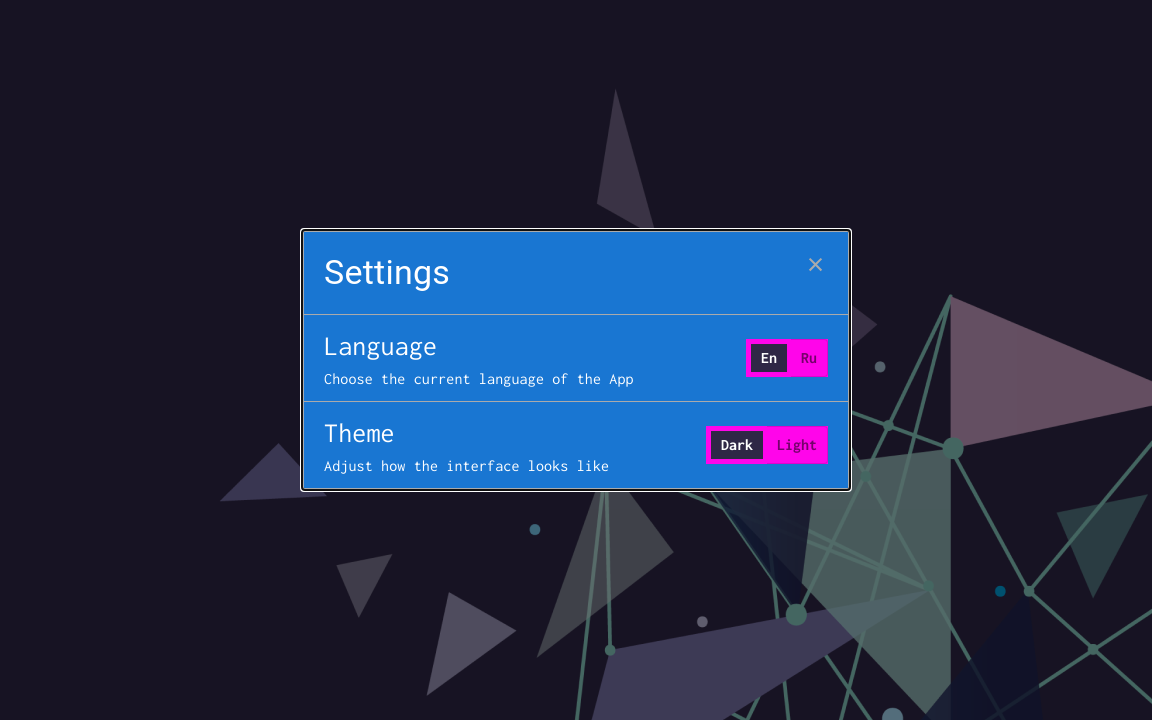
Settings Modal › is able to change language
What coordinates should you click on to do the following:
click the button "Ru"
I would click on:
 (810, 358)
Its box is [791, 339, 828, 377].
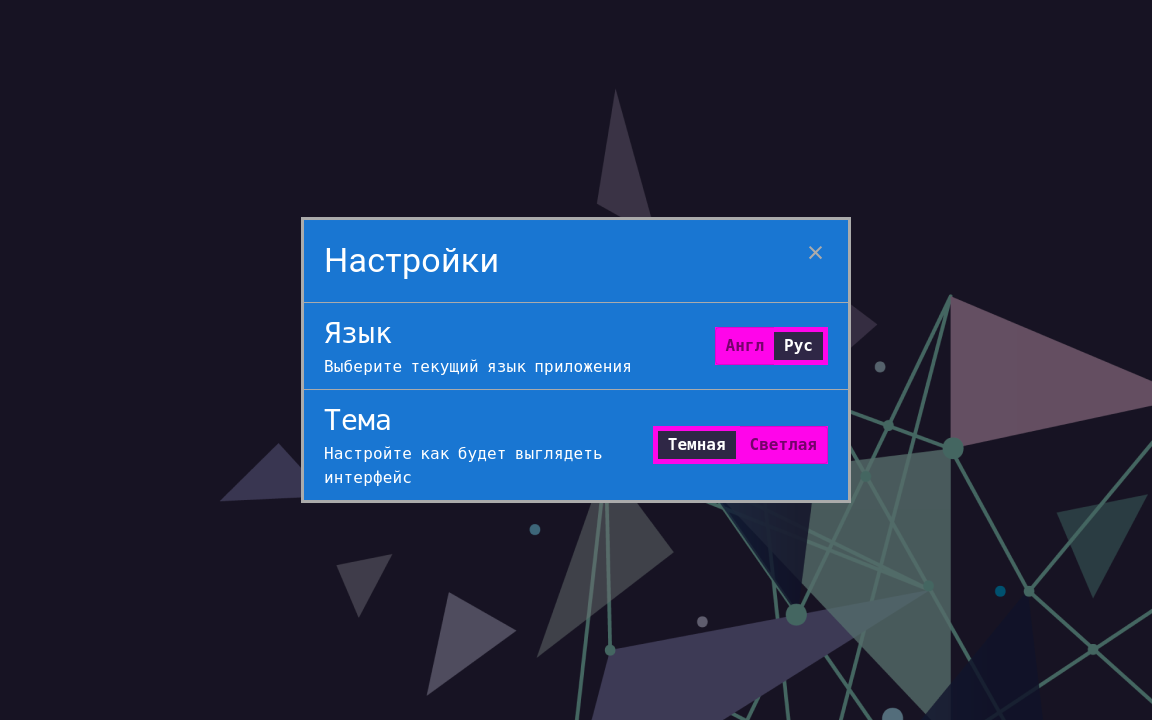
Expected: the heading "Settings" is gone
Expected: the heading "Настройки" is shown, [324, 240, 499, 280]
